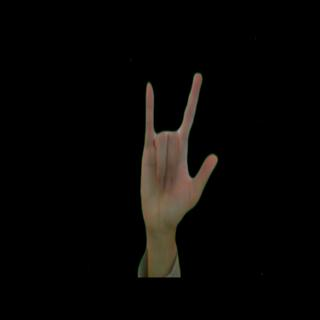ILY: (132, 70, 221, 238)
